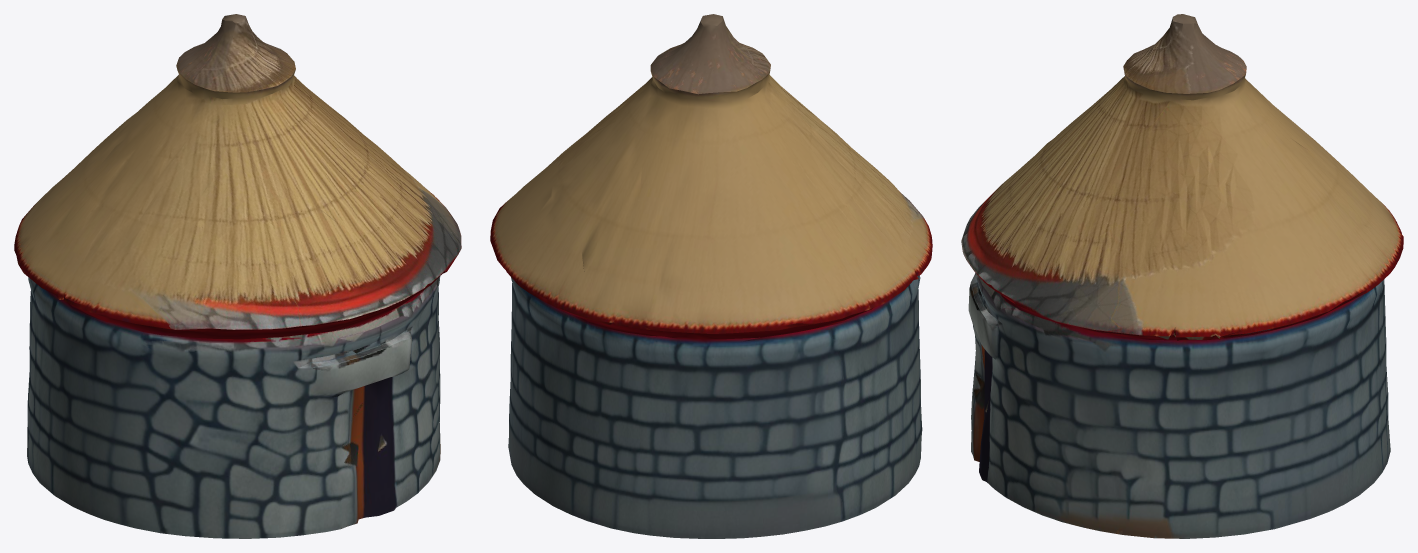
The model's file is andes_casa_piedra.glb.
The picture shows the model from 3 angles, left to right: view 1: azimuth 30°, elevation 25°; view 2: azimuth 150°, elevation 25°; view 3: azimuth 270°, elevation 25°; orthographic projection.
Parts seen in each view (by area): view 1: geometry_0; view 2: geometry_0; view 3: geometry_0.
Boxes of the visible parts, bbox=[...] form: geometry_0: bbox=[14, 14, 461, 538]; geometry_0: bbox=[490, 14, 932, 538]; geometry_0: bbox=[961, 14, 1403, 538].
Size of the model in its own units: 1.4 by 1.5 by 1.38.
1 material, 1 textured.
